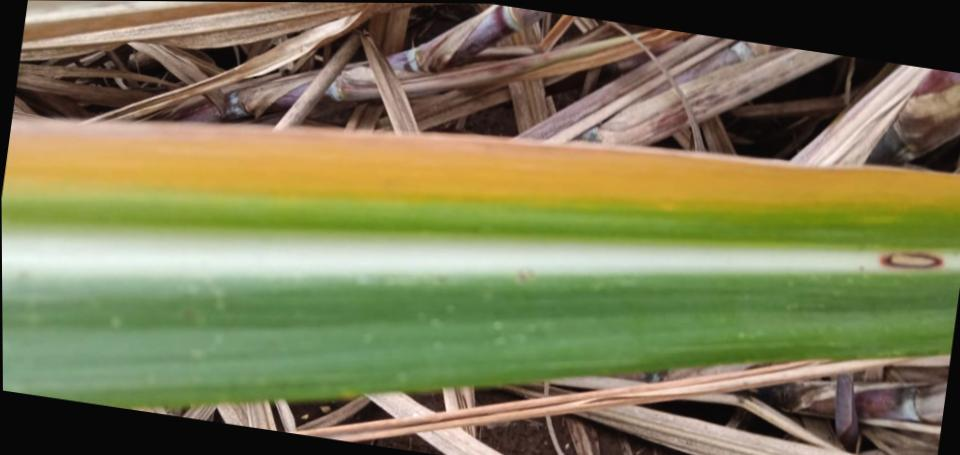RedRot: (879, 252, 945, 270)
Yellow: (4, 121, 960, 202)
